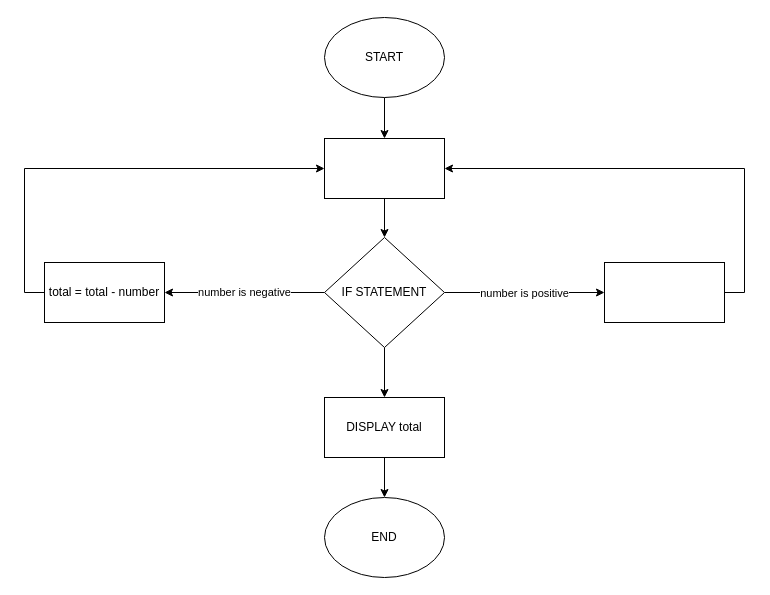
Image size: 770x595. Some labels were removed from this diagram. Each missing label, with the box of its shape:
FOR LOOP: (324, 138, 444, 198)
total = total + number: (604, 262, 724, 322)
